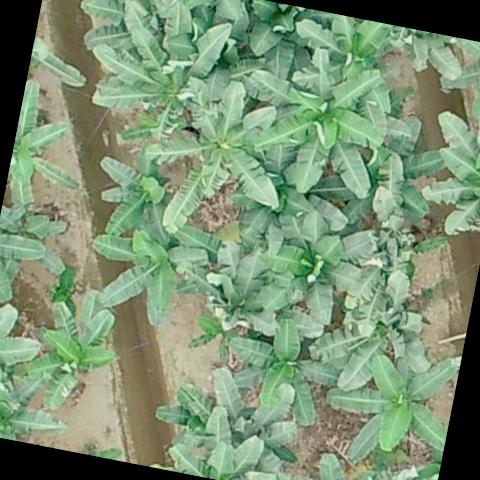Banana-plant: (133, 72, 300, 253), (234, 39, 401, 194), (78, 0, 237, 149), (317, 336, 462, 476), (150, 356, 310, 474), (238, 190, 376, 326), (304, 259, 433, 400), (215, 313, 352, 434), (169, 238, 291, 366), (282, 7, 407, 114), (25, 280, 120, 420), (2, 81, 95, 223), (84, 226, 212, 326), (90, 142, 200, 252), (415, 103, 480, 245), (0, 367, 70, 449), (431, 35, 480, 124), (0, 297, 46, 389)
